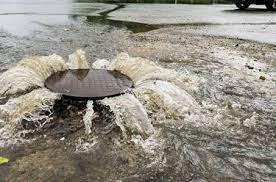drainage_overflow: (0, 37, 202, 157)
